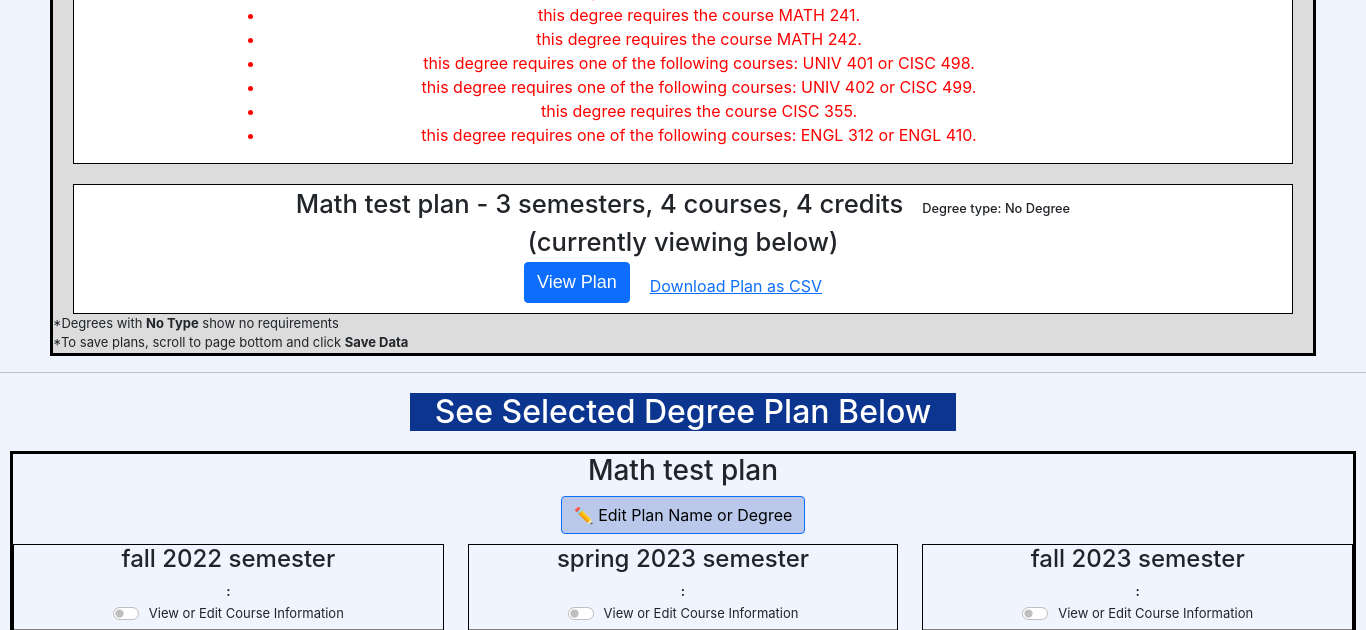
it: View Semester Tests › Test Edit Semester button
(page scrolled)
Click the button with test id "107-degree-plan": coordinates (577, 282) [524,262,630,303]
(page scrolled)
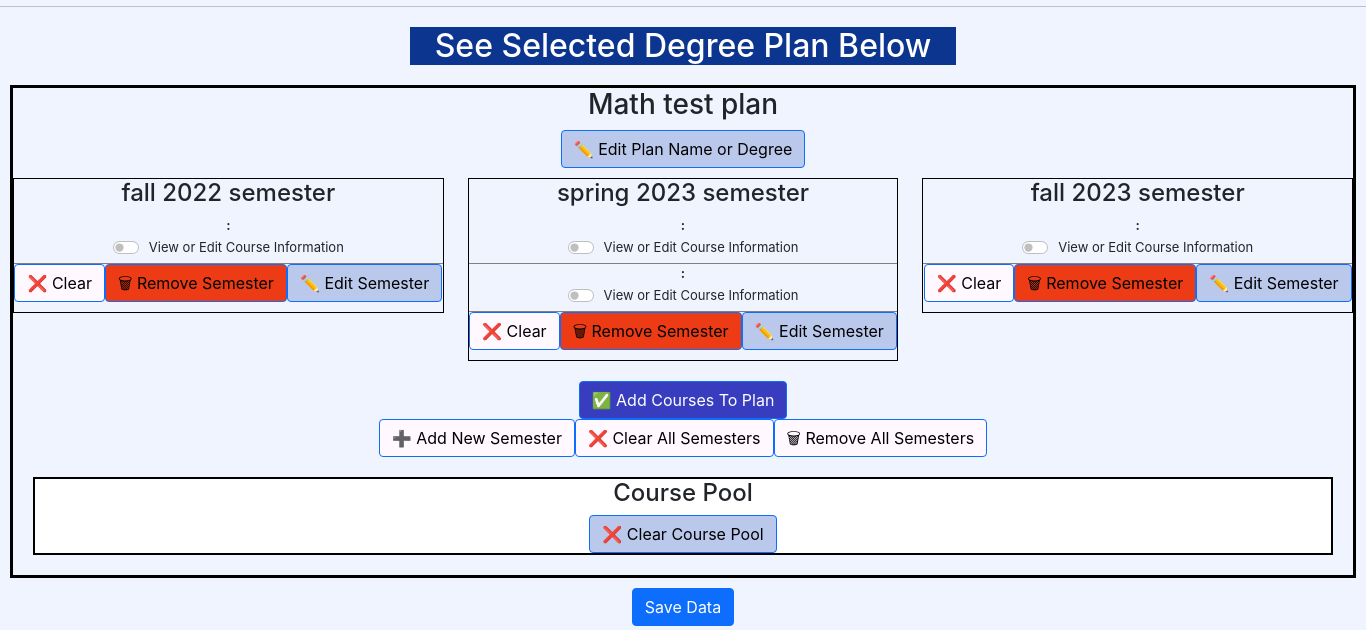
Click the button with test id "109-edit-editing-semester": coordinates (365, 282) [287,264,442,302]
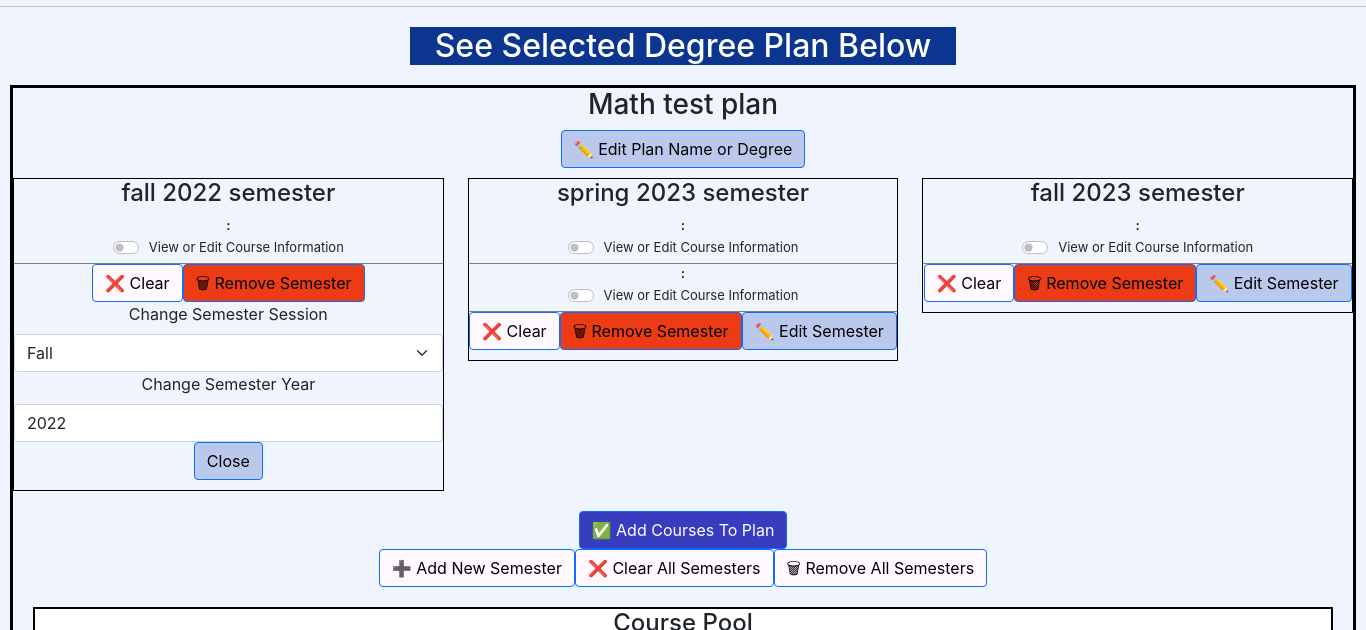
Expected: the text "Change Semester Session" is shown once, [129,302,328,326]
Expected: the text "Change Semester Year" is shown once, [142,372,315,396]
Click the button with test id "109-edit-editing-semester": coordinates (228, 460) [194,442,263,480]
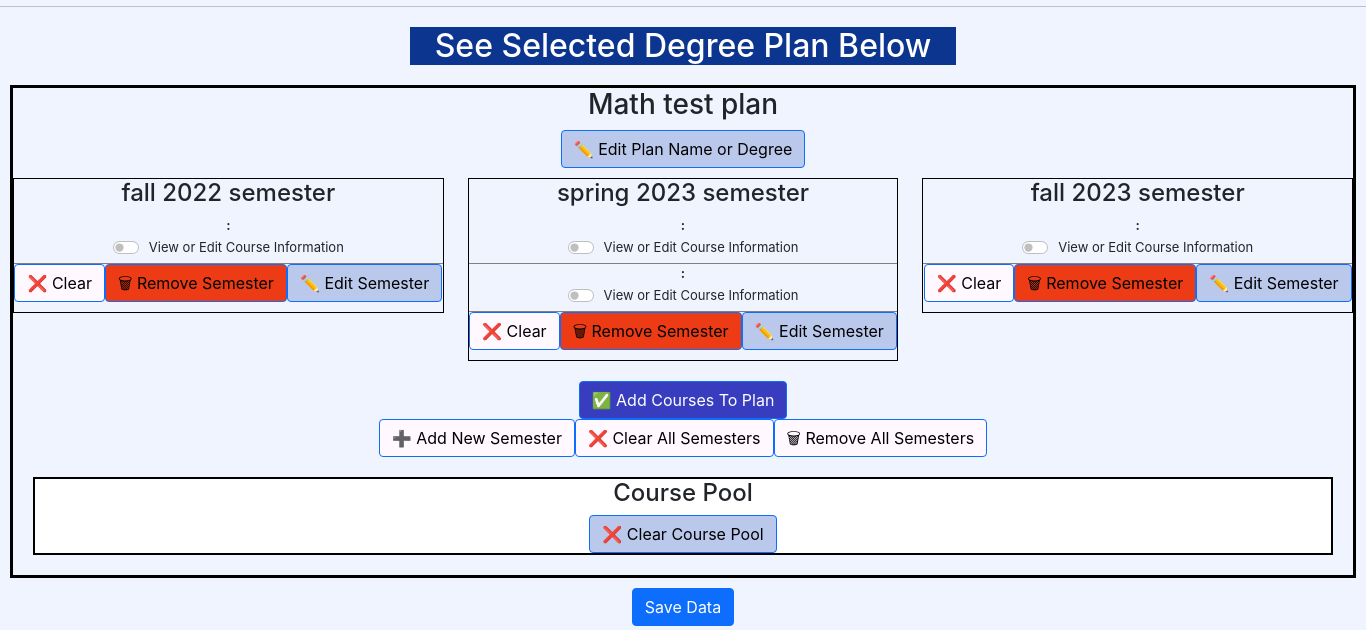
Expected: the text "Change Semester Session" is not shown
Expected: the text "Change Semester Year" is not shown
